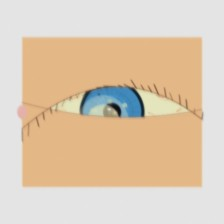corneal_ulcer: (76, 99, 131, 143)
